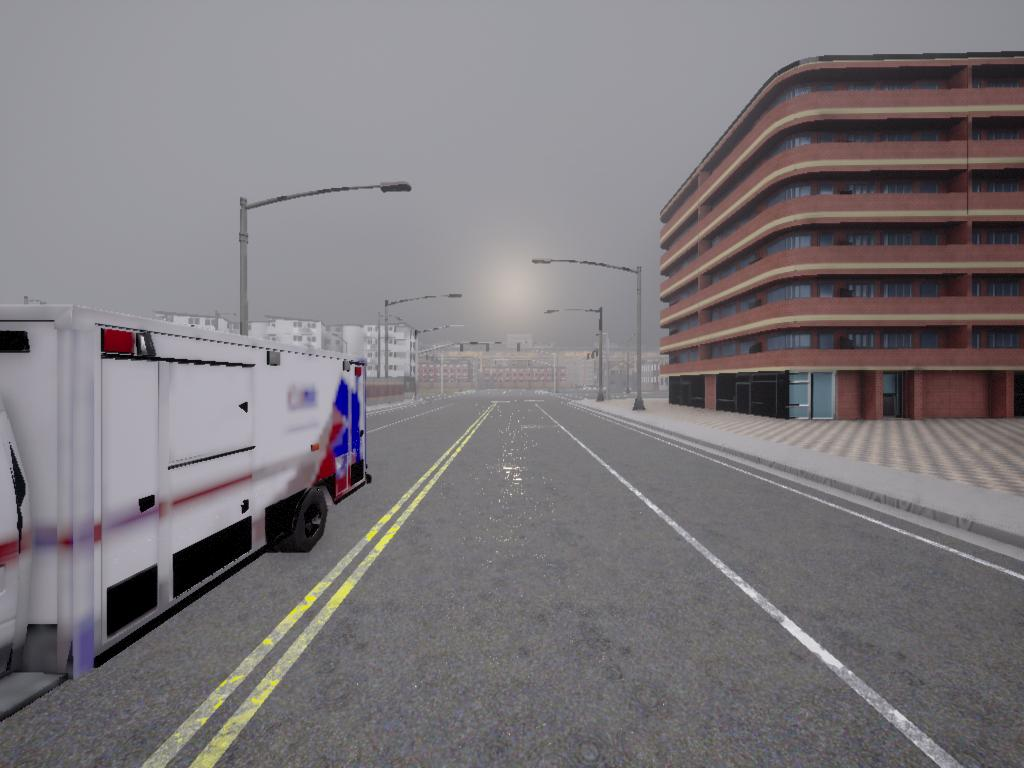traffic_light: (486, 344, 490, 353), (517, 345, 521, 353), (529, 360, 533, 367), (592, 351, 595, 360), (461, 345, 464, 353), (432, 356, 435, 364), (596, 350, 599, 358), (588, 353, 590, 361), (427, 355, 429, 362), (437, 359, 439, 366), (513, 360, 515, 366), (495, 361, 497, 365)
